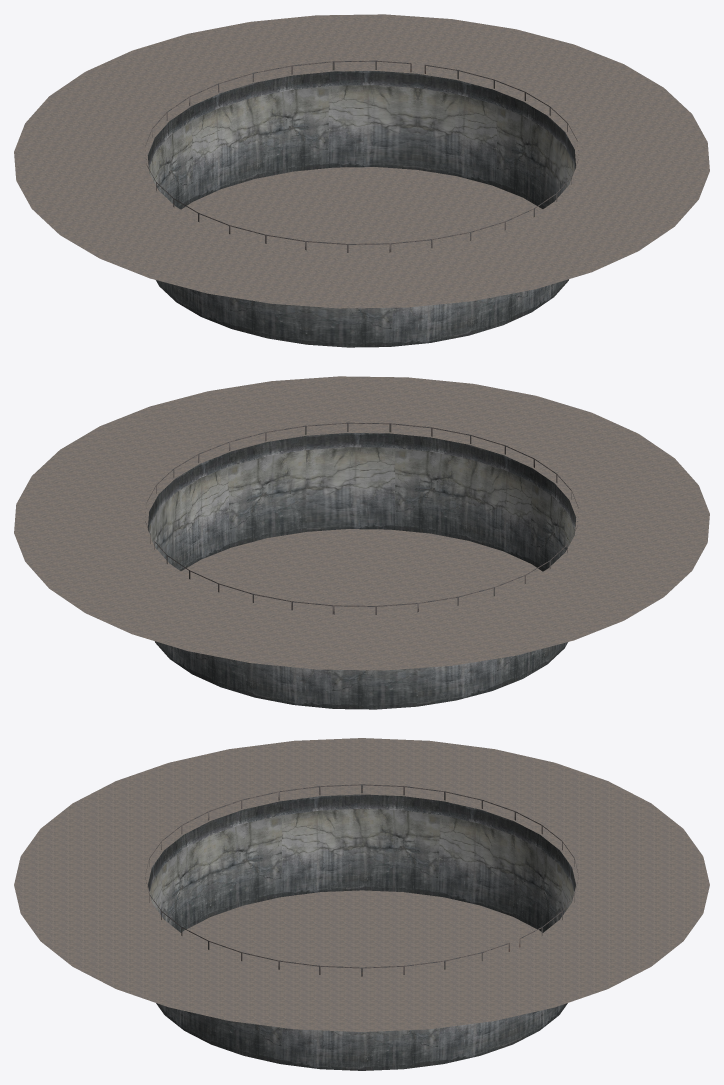
The model's file is environment_base.fbx.
3 views of the same model, one above another, from view 1: azimuth 30°, elevation 25°; view 2: azimuth 150°, elevation 25°; view 3: azimuth 270°, elevation 25° (orthographic).
Visible parts, largest first — view 1: Base; view 2: Base; view 3: Base.
Boxes of the visible parts, x1,y1,x2,y2 form: Base: [14, 14, 709, 347]; Base: [14, 376, 709, 709]; Base: [14, 738, 709, 1070].
Bounding box in the file's own units: 9262 × 1538 × 9262.
